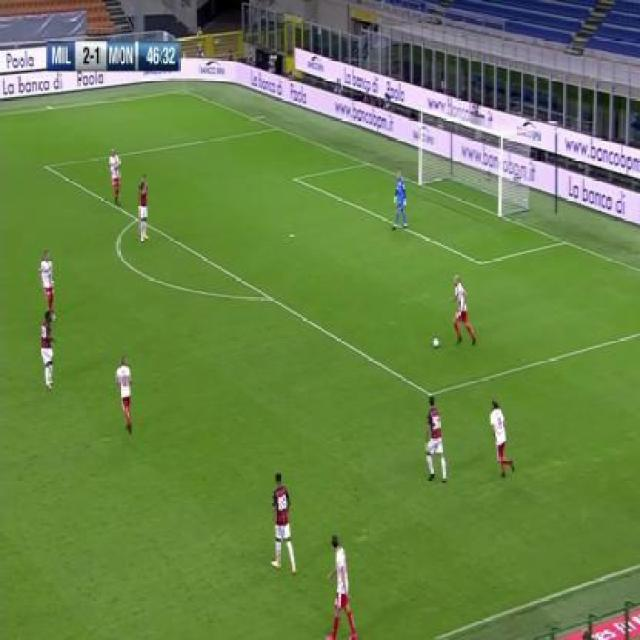ball: (432, 334, 440, 350)
player: (327, 530, 358, 639), (270, 471, 298, 579), (424, 393, 449, 484), (489, 399, 517, 478), (449, 273, 478, 347), (116, 354, 136, 434), (40, 309, 57, 394), (37, 248, 57, 311), (392, 169, 411, 234), (136, 171, 150, 244), (109, 145, 123, 210)
